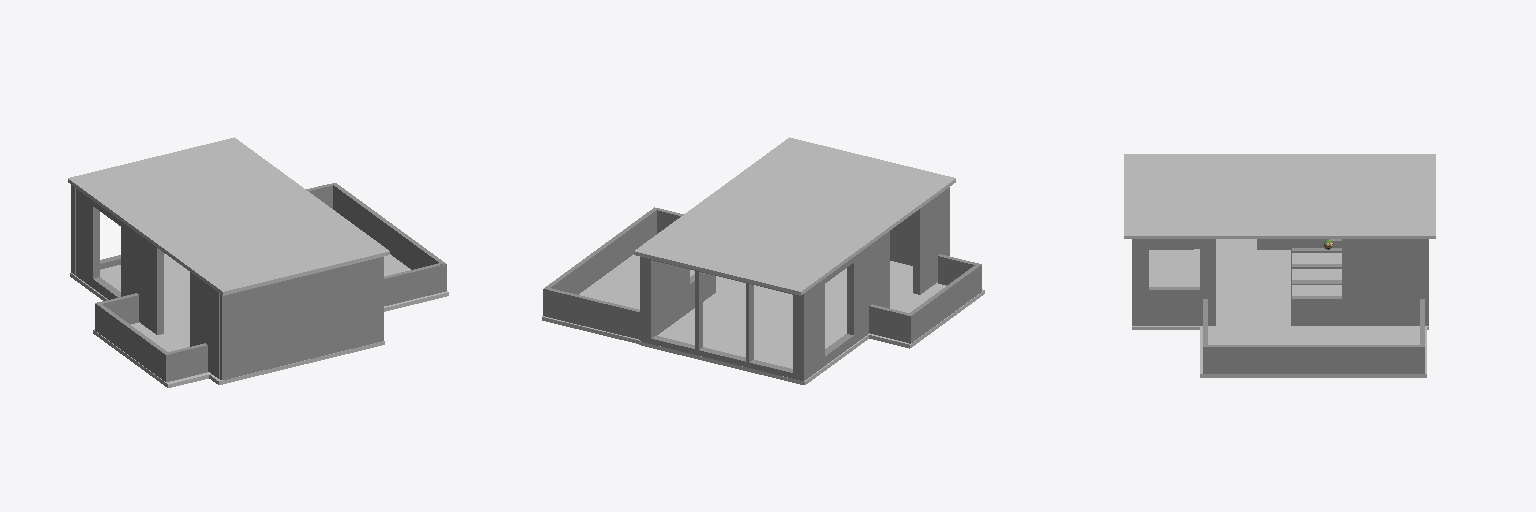
3 views of the same model, side by side, from view 1: azimuth 30°, elevation 25°; view 2: azimuth 150°, elevation 25°; view 3: azimuth 270°, elevation 25° (orthographic).
Visible parts, largest first — view 1: Cube.005, Cube.002, Cube.010_Cube.044, Cube, Cube.036_Cube.039, Cube.013_Cube.042, Cube.006, Cube.021_Cube.022, Cube.038_Cube.041, Cube.014_Cube.043, Cube.011_Cube.023, Cube.001; view 2: Cube.005, Cube.010_Cube.044, Cube, Cube.036_Cube.039, Cube.006, Cube.037_Cube.040, Cube.013_Cube.042, Cube.026_Cube.027, Cube.021_Cube.022, Cube.033_Cube.034, Cube.003, Cube.011_Cube.023 (+4 smaller); view 3: Cube.005, Cube.010_Cube.044, Cube.026_Cube.027, Cube.036_Cube.039, Cube.015_Cube.010, Cube.027_Cube.028, Cube.001, Cube.012_Cube.004, Cube, Cube.016_Cube.011.
Boxes of the visible parts, x1,y1,x2,y2 form: Cube.005: [68, 137, 389, 295]; Cube.002: [220, 258, 376, 379]; Cube.010_Cube.044: [70, 254, 448, 387]; Cube: [121, 222, 163, 334]; Cube.036_Cube.039: [332, 183, 446, 291]; Cube.013_Cube.042: [95, 302, 169, 381]; Cube.006: [190, 272, 219, 378]; Cube.021_Cube.022: [76, 189, 99, 287]; Cube.038_Cube.041: [384, 263, 441, 305]; Cube.014_Cube.043: [167, 343, 207, 381]; Cube.011_Cube.023: [99, 293, 138, 324]; Cube.001: [377, 257, 383, 342]; Cube.005: [634, 137, 955, 295]; Cube.010_Cube.044: [542, 254, 984, 384]; Cube: [847, 231, 889, 343]; Cube.036_Cube.039: [543, 207, 658, 316]; Cube.006: [913, 188, 948, 294]; Cube.037_Cube.040: [548, 288, 639, 339]; Cube.013_Cube.042: [906, 263, 981, 343]; Cube.026_Cube.027: [640, 257, 689, 340]; Cube.021_Cube.022: [808, 281, 824, 377]; Cube.033_Cube.034: [793, 291, 807, 380]; Cube.003: [641, 257, 655, 342]; Cube.011_Cube.023: [869, 304, 908, 341]; Cube.005: [1124, 154, 1435, 238]; Cube.010_Cube.044: [1132, 239, 1428, 377]; Cube.026_Cube.027: [1342, 239, 1427, 325]; Cube.036_Cube.039: [1203, 345, 1424, 373]; Cube.015_Cube.010: [1142, 287, 1203, 325]; Cube.027_Cube.028: [1291, 296, 1343, 325]; Cube.001: [1132, 239, 1148, 325]; Cube.012_Cube.004: [1200, 239, 1215, 325]; Cube: [1257, 239, 1328, 249]; Cube.016_Cube.011: [1142, 239, 1203, 248].
Size of the model in its own units: 32.5 by 9.76 by 28.71.
Materials: 4 (1 with a texture image).